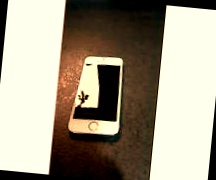iphone: (54, 64, 118, 151)
